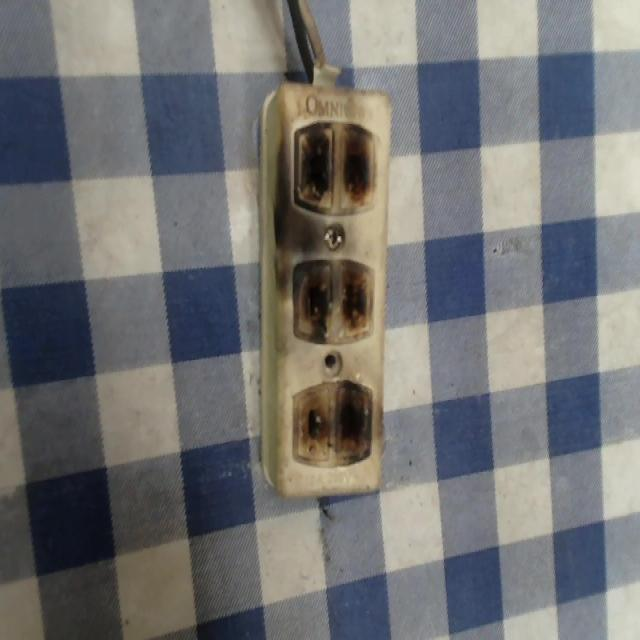-: (284, 114, 379, 218), (289, 379, 374, 464), (290, 257, 374, 343)
